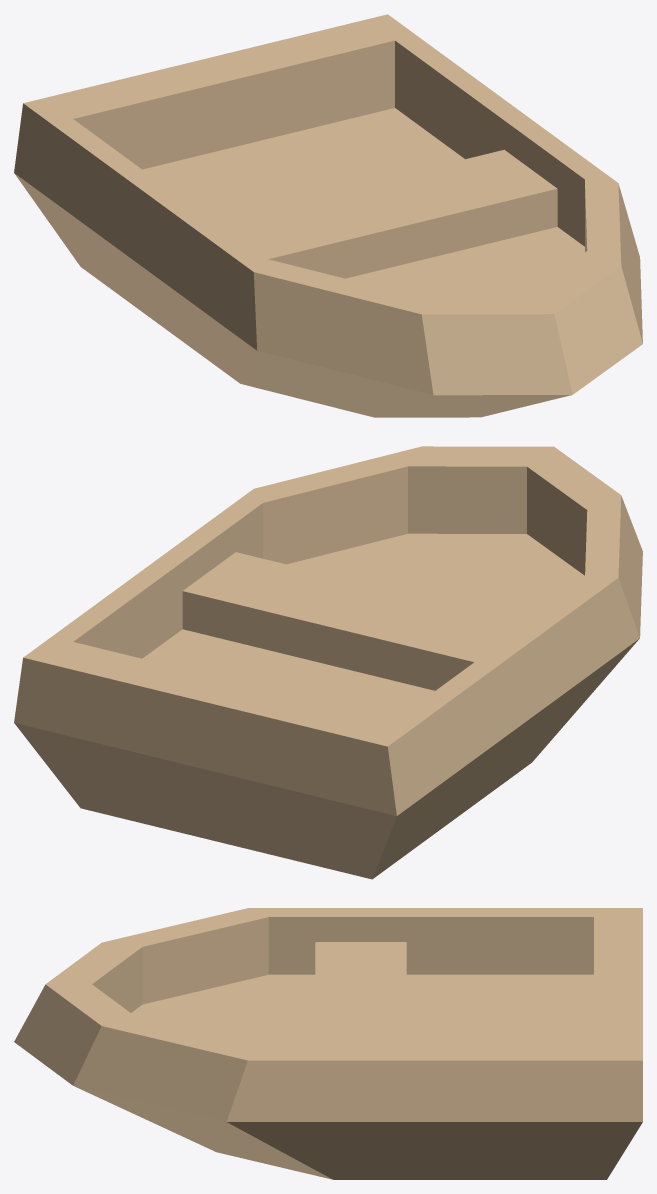
The model's file is boat_026.glb.
3 renders of one model, top to bottom at view 1: azimuth 30°, elevation 25°; view 2: azimuth 150°, elevation 25°; view 3: azimuth 270°, elevation 25°, orthographic. The views are drawn at different scales.
Parts seen in each view (by area): view 1: boat_026; view 2: boat_026; view 3: boat_026.
Part boxes in pixels (left/top/right/bottom): boat_026: left=14, top=14, right=642, bottom=417; boat_026: left=14, top=446, right=642, bottom=879; boat_026: left=14, top=908, right=642, bottom=1179.
Size of the model in its own units: 1.78 by 0.7 by 2.97.
